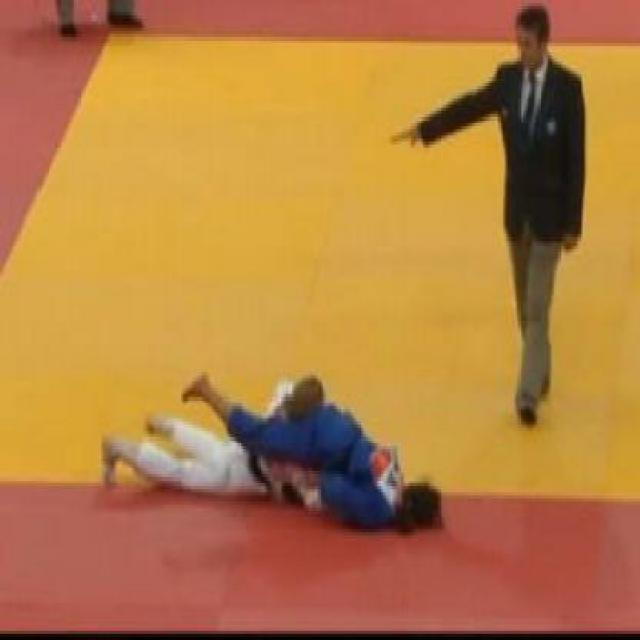fall: (164, 342, 459, 538)
